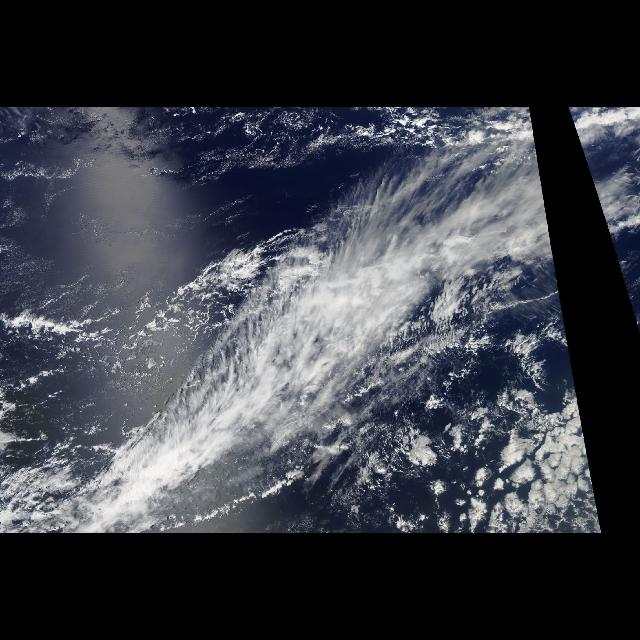Fish: (75, 180, 561, 522)
Flower: (419, 388, 599, 532)
Sugar: (4, 152, 160, 310)
